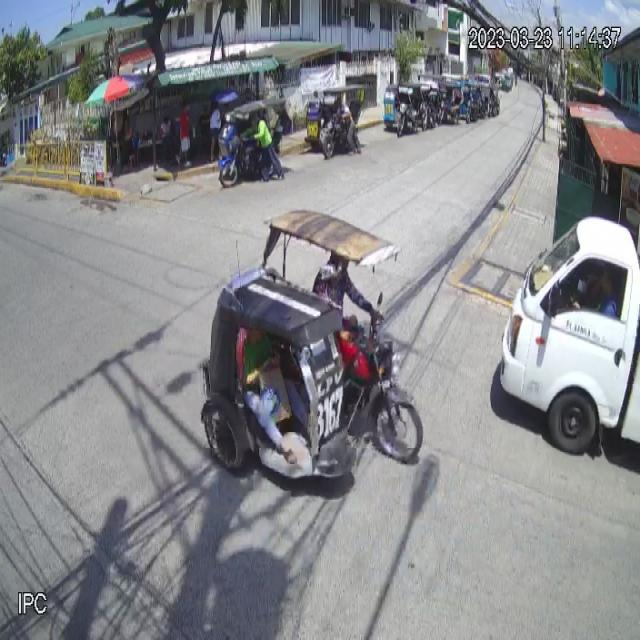Tricycle: (200, 208, 424, 488)
